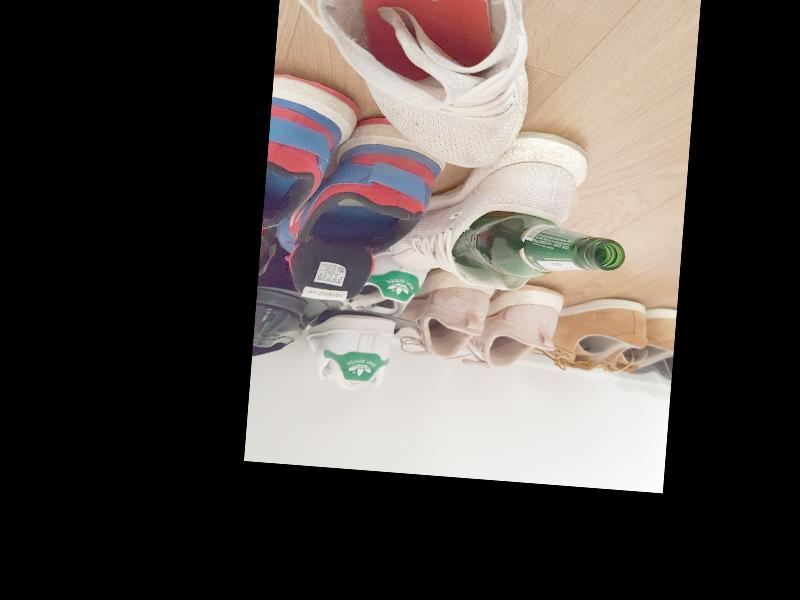Beer: (451, 208, 627, 283)
